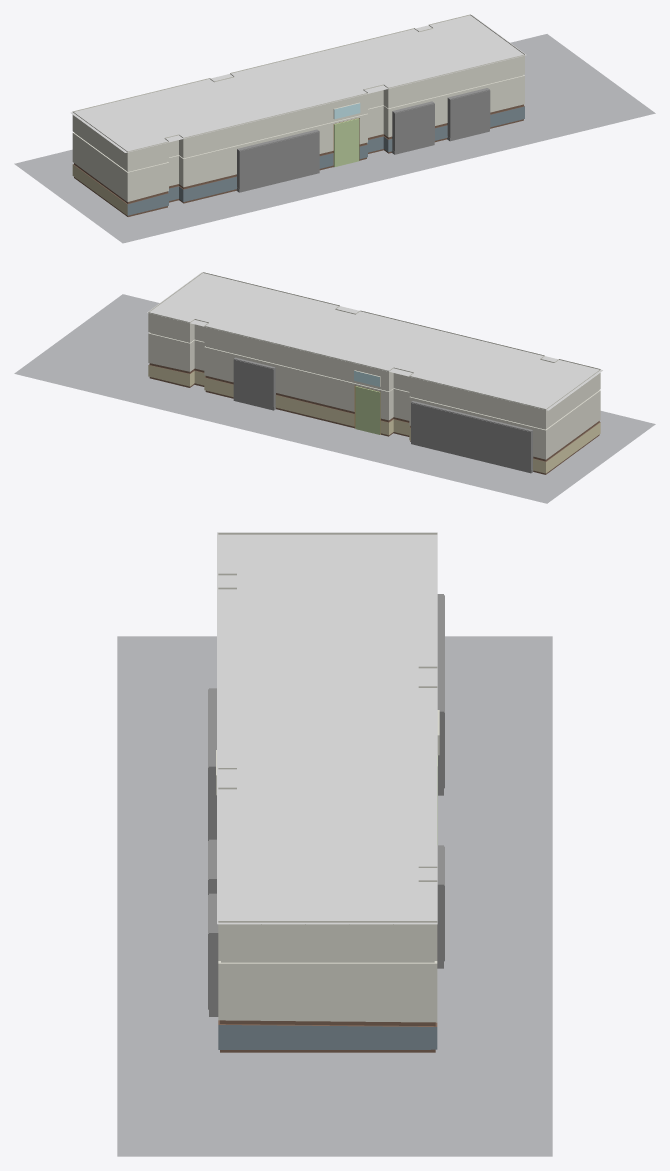
Rendered from environment_test.fbx.
3 renders of one model, top to bottom at view 1: azimuth 30°, elevation 25°; view 2: azimuth 150°, elevation 25°; view 3: azimuth 270°, elevation 25°, orthographic. The views are drawn at different scales.
Parts seen in each view (by area): view 1: polySurface18; view 2: polySurface18; view 3: polySurface18.
Boxes of the visible parts, left/top/right/bottom form: polySurface18: left=14, top=14, right=655, bottom=243; polySurface18: left=14, top=272, right=655, bottom=503; polySurface18: left=117, top=532, right=552, bottom=1156.
Size of the model in its own units: 31.51 by 3.77 by 11.15.
